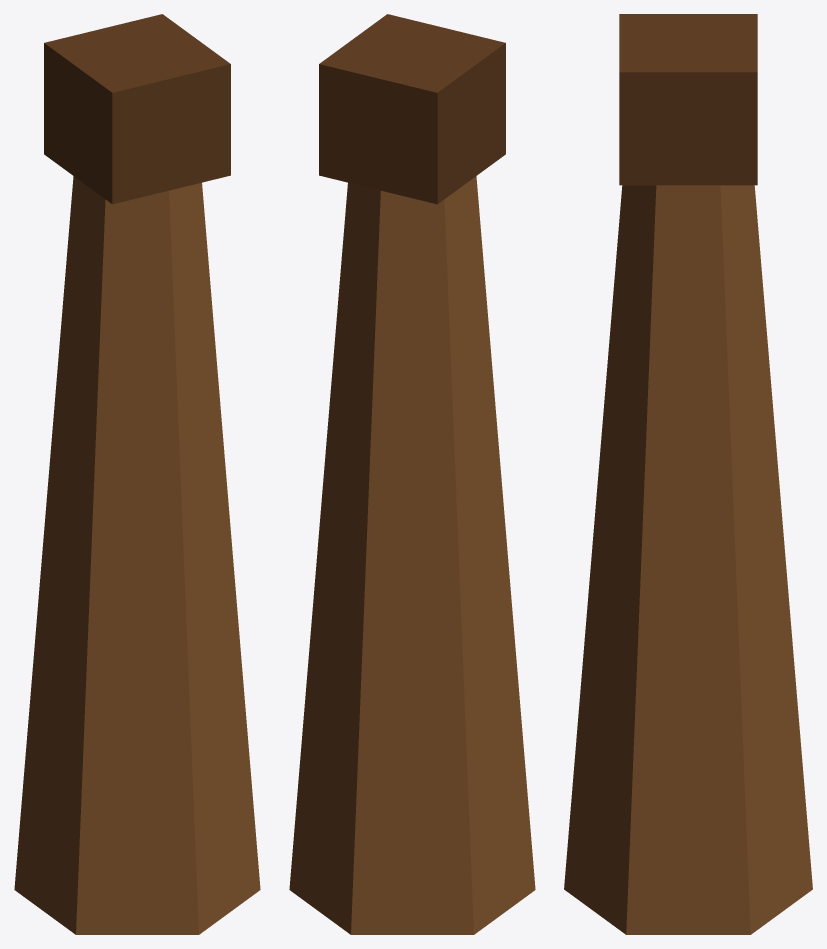
Rendered from windmill_base.glb.
3 views of the same model, side by side, from view 1: azimuth 30°, elevation 25°; view 2: azimuth 150°, elevation 25°; view 3: azimuth 270°, elevation 25° (orthographic).
Visible parts, largest first — view 1: windmill_base; view 2: windmill_base; view 3: windmill_base.
Boxes of the visible parts, bbox=[...] form: windmill_base: bbox=[14, 14, 260, 934]; windmill_base: bbox=[289, 14, 535, 934]; windmill_base: bbox=[564, 14, 812, 934].
Bounding box in the file's own units: 1.56 × 6.75 × 1.8.
